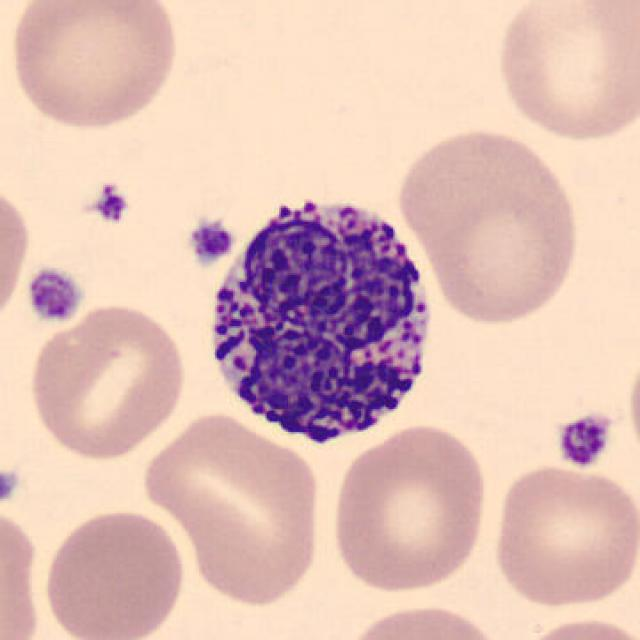Basophil: (196, 176, 446, 460)
Platelets: (21, 264, 86, 328), (551, 409, 615, 471), (183, 215, 238, 270), (87, 180, 133, 229), (0, 466, 23, 510)
RBC: (393, 122, 585, 330), (137, 408, 327, 608), (326, 421, 492, 596), (25, 298, 192, 464), (5, 0, 185, 134), (487, 460, 638, 612), (490, 0, 638, 146), (39, 504, 189, 640), (339, 599, 505, 640), (0, 500, 44, 640), (0, 178, 34, 332), (514, 612, 640, 640), (624, 333, 640, 480)
